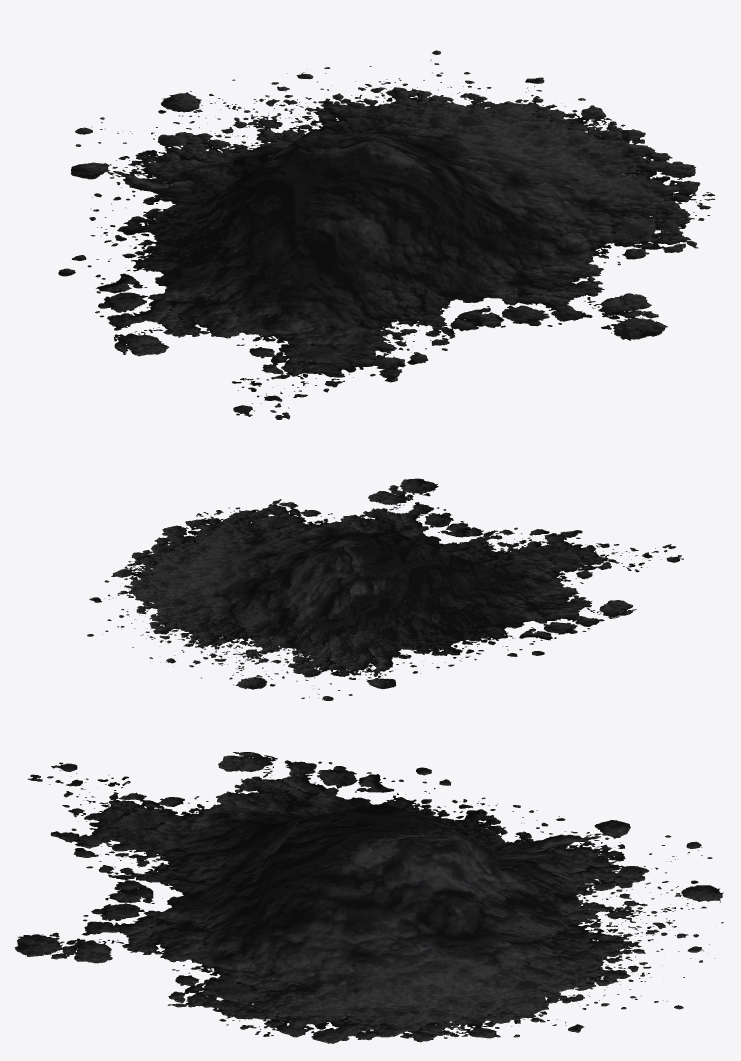
File: Coke Pile.fbx
3 views of the same model, one above another, from view 1: azimuth 30°, elevation 25°; view 2: azimuth 150°, elevation 25°; view 3: azimuth 270°, elevation 25° (orthographic). The views are drawn at different scales.
Visible parts, largest first — view 1: Coke Powder; view 2: Coke Powder; view 3: Coke Powder.
Part boxes in pixels (<box>): Coke Powder: <box>58,50,715,419</box>; Coke Powder: <box>87,478,683,700</box>; Coke Powder: <box>14,752,723,1043</box>.
Size of the model in its own units: 27.73 by 2.93 by 27.73.
Materials: 1 (1 with a texture image).
